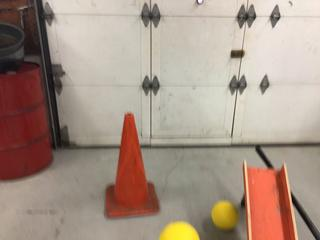power_cell: (209, 197, 241, 231), (159, 217, 204, 240)
